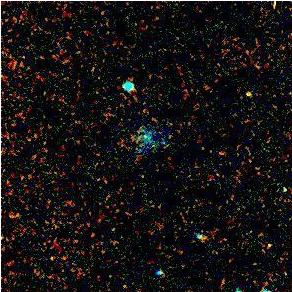star: (233, 76, 263, 106)
